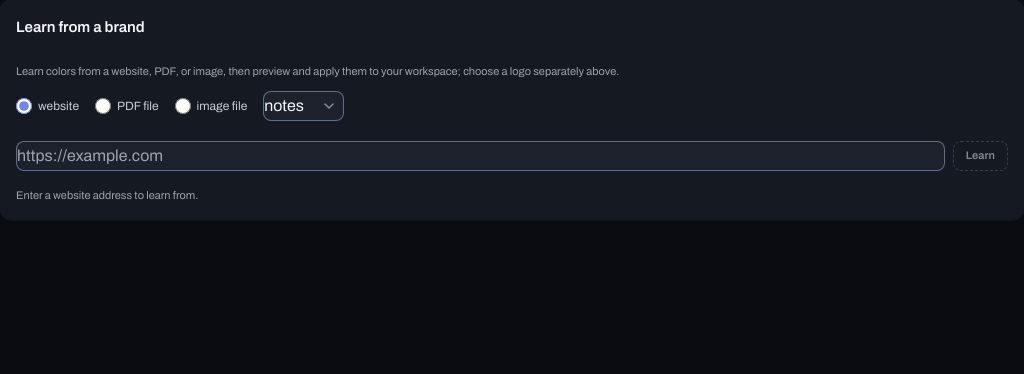
Test: BrandLearn — the restored /theme extraction flow › rides the 404→200 readback, then previews inline WITHOUT persisting
Type "https://acme.example" into the field with test id "learn-input" at (480, 156), box [16,141,945,171]
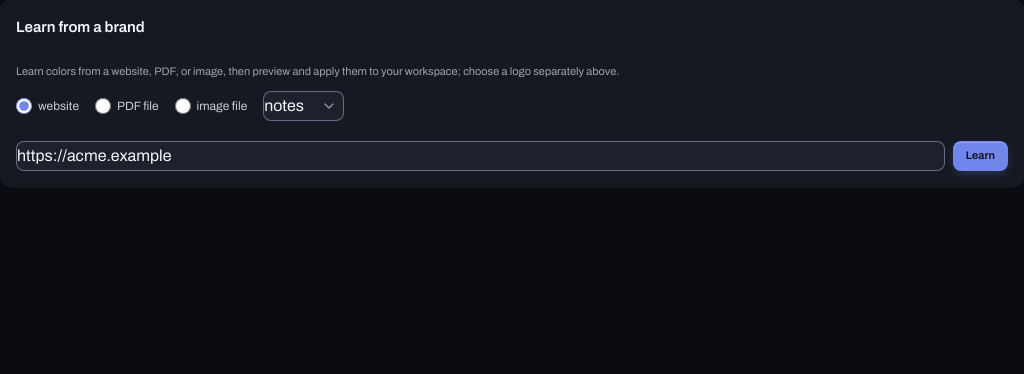
Click the button with test id "learn-submit" at (980, 156), box [953,141,1008,171]
Wait 2000 ms
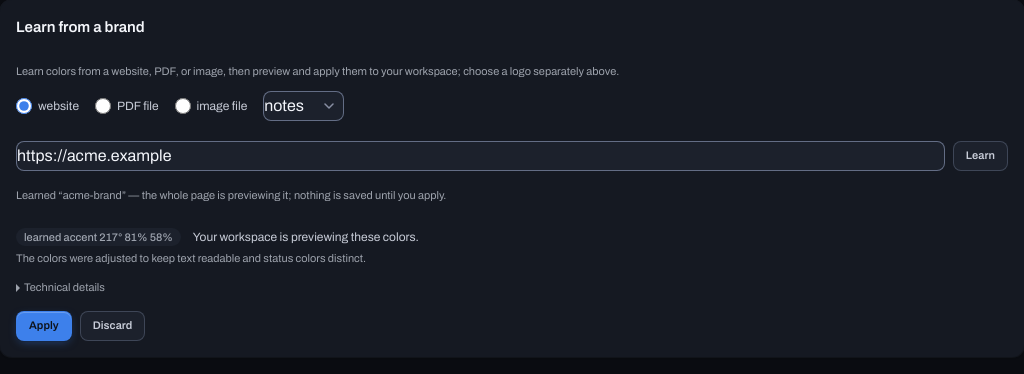
Check: the text with test id "learn-preview-chip" shows "217", box [99,230,118,242]
